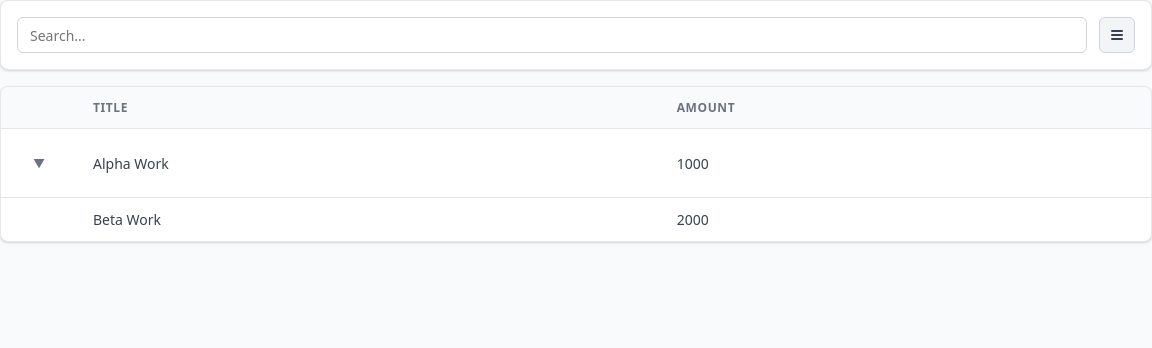
Test case: DataTable expandableRows › toggles aria-expanded on click and aria-controls references the real containing tbody id
The width and height of the screenshot is (1152, 348).
Expected: the table with id "row-group-item-1" is shown, [1,128,1151,198]
Click the button "▼" at x=39, y=163, box [17,141,61,185]
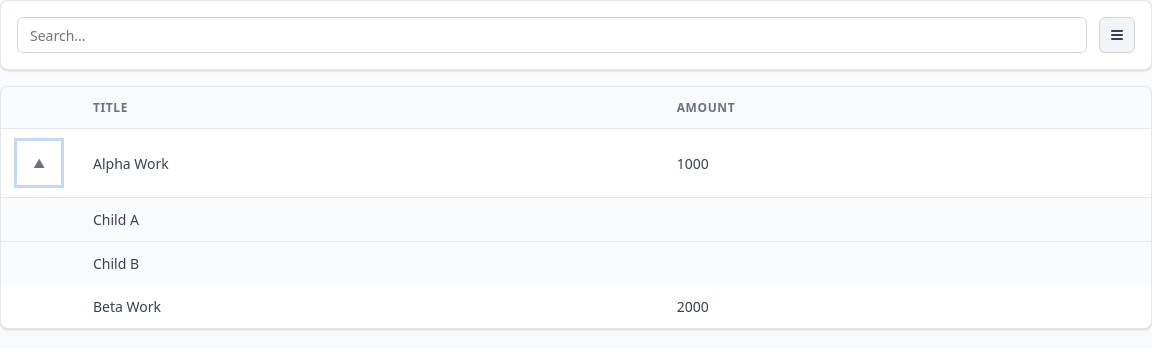
Expected: the button "▼" is expanded
Click the button "▼" at x=39, y=163, box [17,141,61,185]
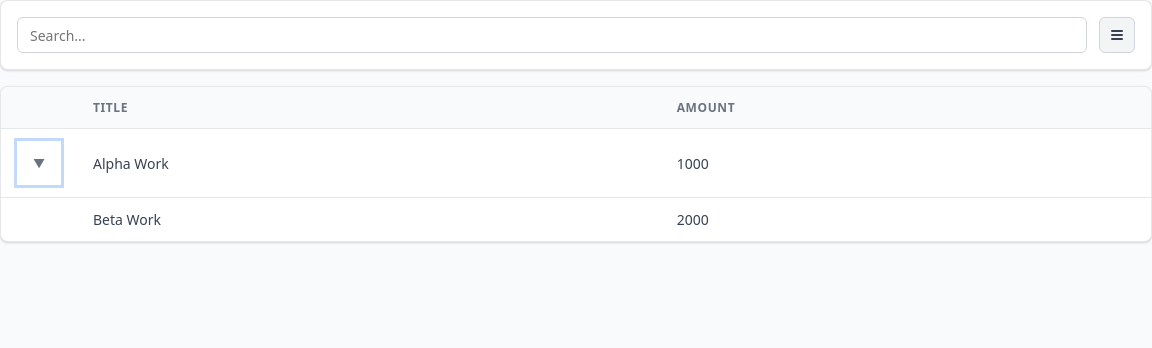
Expected: the button "▼" is collapsed, [17,141,61,185]
